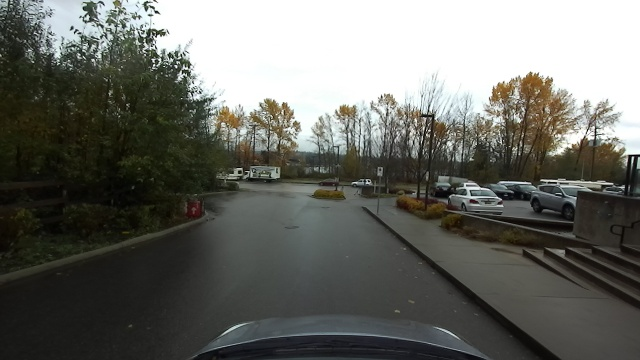car: (448, 188, 506, 216), (531, 184, 573, 217), (243, 164, 281, 184), (505, 179, 536, 199), (485, 182, 513, 203), (212, 164, 241, 182), (437, 175, 478, 186), (429, 182, 451, 198), (599, 183, 624, 196), (351, 177, 373, 188), (318, 177, 339, 187)
